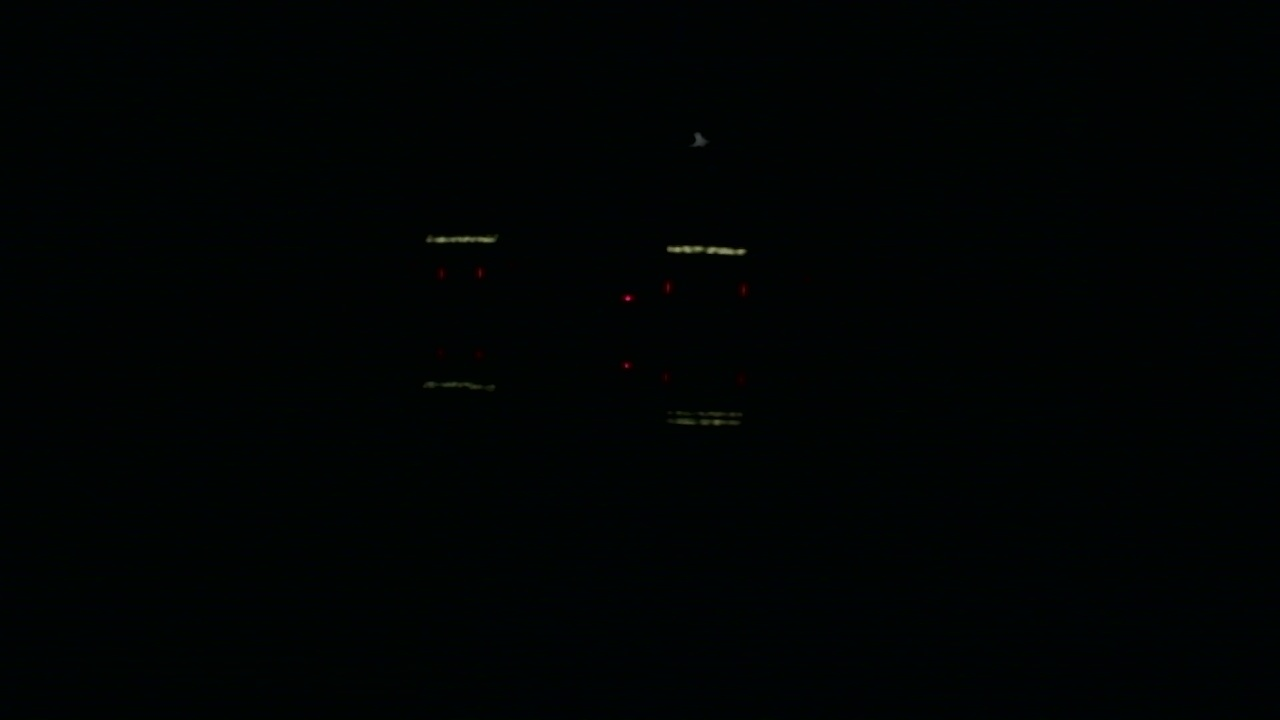pair1: (437, 266, 482, 278)
pair2: (664, 281, 747, 298)
